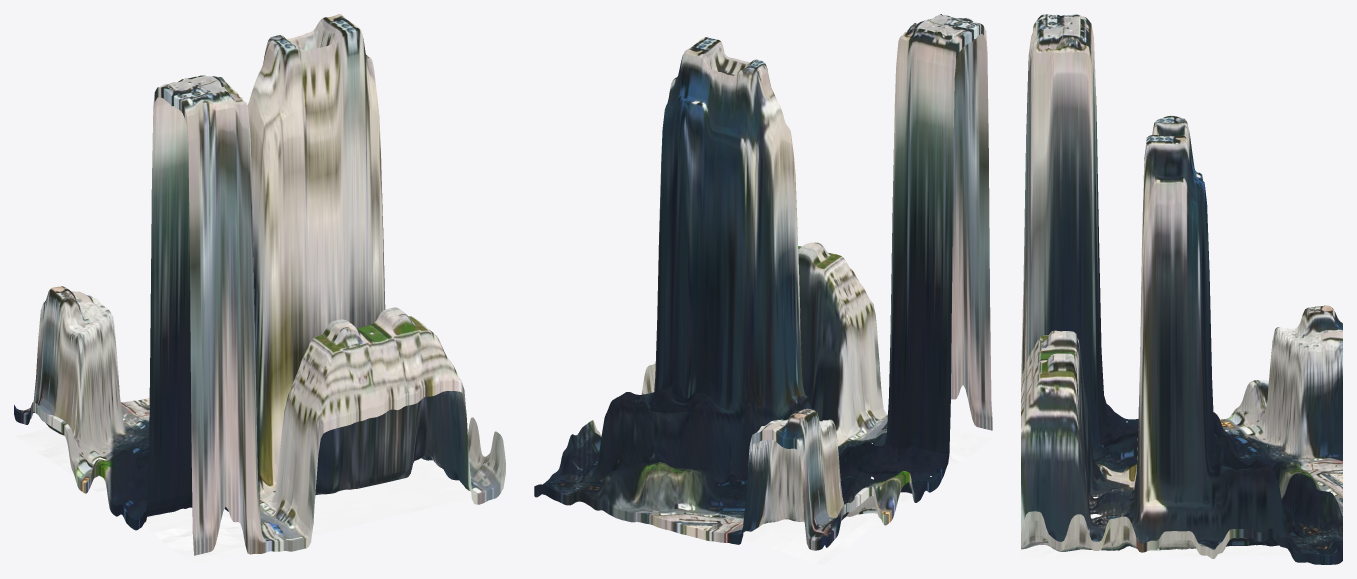
3 views of the same model, side by side, from view 1: azimuth 30°, elevation 25°; view 2: azimuth 150°, elevation 25°; view 3: azimuth 270°, elevation 25° (orthographic). The views are drawn at different scales.
Parts seen in each view (by area): view 1: surface, ground; view 2: surface, ground; view 3: surface, ground.
Part boxes in pixels (box(x1,y1,x2,y2)): surface: box(14, 14, 505, 555); ground: box(14, 426, 505, 564); surface: box(534, 14, 992, 550); ground: box(742, 429, 992, 564); surface: box(1021, 14, 1342, 564); ground: box(1021, 421, 1317, 557).
Size of the model in its own units: 128 by 183 by 128.
2 materials, 1 textured.
